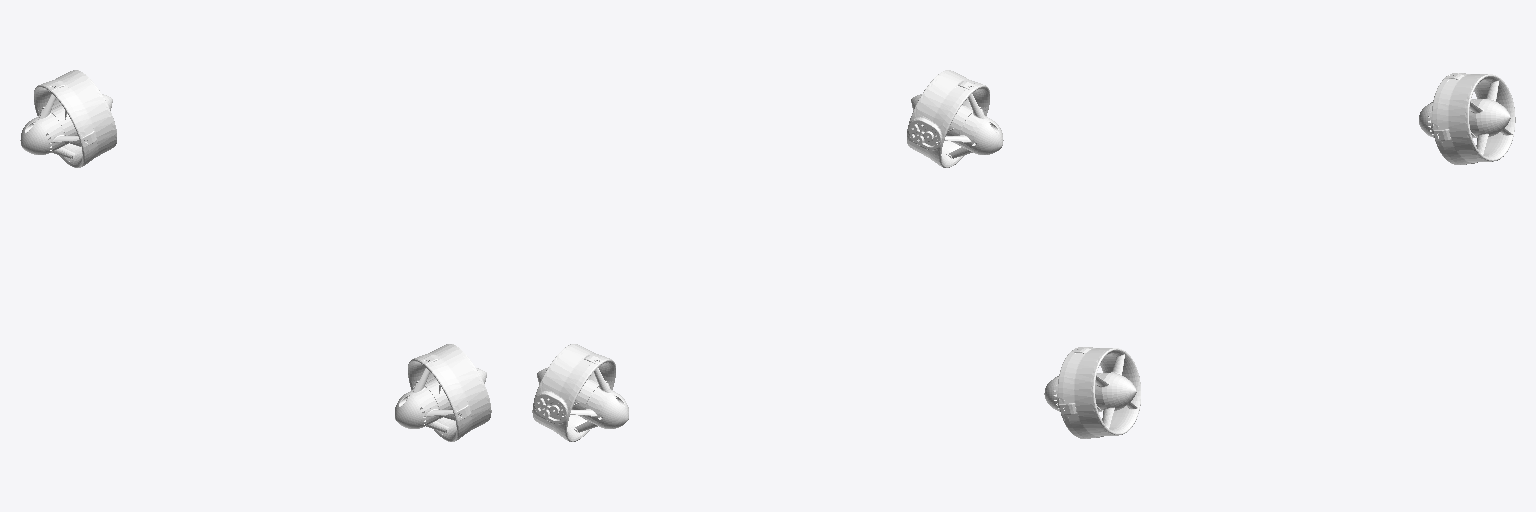
The robot description file, URDF, robot "athena":
<?xml version="1.0"?>
<!--  ==========================================================================================  -->
<!--  |    This document was autogenerated by scene_to_spawner from athena.xacro               |  -->
<!--  |    EDITING THIS FILE BY HAND IS NOT RECOMMENDED                                        |  -->
<!--  ==========================================================================================  -->
<robot xmlns:xacro="http://www.ros.org/wiki/xacro" name="athena">
  <link name="base_link">
    <visual>
      <origin rpy="0 0 0" xyz="0 0 0"/>
      <geometry>
        <mesh filename="meshes/simpleHull3/base_link.obj" scale="0.21 0.21 0.21"/>
      </geometry>
    </visual>
    </link>
  <link name="center_r_link">
    <visual>
      <origin rpy="0 0 0" xyz="0 0 0.0"/>
      <geometry>
        <mesh filename="meshes/simpleHull3/centerRight.obj" scale="0.21 0.21 0.21"/>
      </geometry>
    </visual>
    </link>
  <joint name="center_r_joint" type="revolute">
    <parent link="base_link"/>
    <child link="center_r_link"/>
    <origin rpy="0 0 0" xyz="0 0 0"/>
    <limit effort="50" lower="0" upper="0" velocity="5"/>
    <dynamics damping="1.0"/>
    <axis xyz="1 0 0"/>
  </joint>
  <link name="back_l_link">
    <visual>
      <origin rpy="0 0 0" xyz="0 0 0"/>
      <geometry>
        <mesh filename="meshes/simpleHull3/backLeft.obj" scale="0.21 0.21 0.21"/>
      </geometry>
    </visual>
    </link>
  <joint name="back_l_joint" type="revolute">
    <parent link="base_link"/>
    <child link="back_l_link"/>
    <origin rpy="0 0 0" xyz="-0.105 0.0819 0"/>
    <limit effort="50" lower="0" upper="0" velocity="5"/>
    <dynamics damping="1.0"/>
    <axis xyz="1 0 0"/>
  </joint>
  <link name="back_r_link">
    <visual>
      <origin rpy="0 0 0" xyz="0 0 0"/>
      <geometry>
        <mesh filename="meshes/simpleHull3/backRight.obj" scale="0.21 0.21 0.21"/>
      </geometry>
    </visual>
    </link>
  <joint name="back_r_joint" type="revolute">
    <parent link="base_link"/>
    <child link="back_r_link"/>
    <origin rpy="0 0 0" xyz="-0.105 -0.0819 0"/>
    <limit effort="50" lower="0" upper="0" velocity="5"/>
    <dynamics damping="1.0"/>
    <axis xyz="1 0 0"/>
  </joint>
  <link name="front_l_link">
    <visual>
      <origin rpy="0 0 0" xyz="0 0 0"/>
      <geometry>
        <mesh filename="meshes/simpleHull3/frontLeft.obj" scale="0.21 0.21 0.21"/>
      </geometry>
    </visual>
    </link>
  <joint name="front_l_joint" type="revolute">
    <parent link="base_link"/>
    <child link="front_l_link"/>
    <origin rpy="0 0 0" xyz="0.273 0.042 0"/>
    <limit effort="50" lower="0" upper="0" velocity="5"/>
    <dynamics damping="1.0"/>
    <axis xyz="1 0 0"/>
  </joint>
  <link name="front_r_link">
    <visual>
      <origin rpy="0 0 0" xyz="0 0 0"/>
      <geometry>
        <mesh filename="meshes/simpleHull3/frontRight.obj" scale="0.21 0.21 0.21"/>
      </geometry>
    </visual>
    </link>
  <joint name="front_r_joint" type="revolute">
    <parent link="base_link"/>
    <child link="front_r_link"/>
    <origin rpy="0 0 0" xyz="0.273 -0.042 0"/>
    <limit effort="50" lower="0" upper="0" velocity="5"/>
    <dynamics damping="1.0"/>
    <axis xyz="1 0 0"/>
  </joint>
  <joint name="hokuyo_joint" type="revolute">
    <axis xyz="0 1 0"/>
    <origin rpy="0 0 0" xyz="0.50 0 0.15"/>
    <parent link="base_link"/>
    <child link="hokuyo_link"/>
    <limit effort="100" lower="0" upper="0" velocity="5"/>
  </joint>
  <link name="hokuyo_link">
    <visual name="visual">
      <origin rpy="0 0 0" xyz="0 0 0"/>
      <geometry>
        <mesh filename="meshes/simpleHull3/box.obj" scale="0.1 0.1 0.1"/>
      </geometry>
    </visual>
    </link>
  <joint name="fwd_left_joint" type="revolute">
    <parent link="back_l_link"/>
    <child link="fwd_left"/>
    <origin rpy="0 -1.83079632679 0" xyz="-0.3 0 -0.1"/>
    <dynamics damping="1.0"/>
    <axis xyz="1 0 0"/>
    <limit effort="50" lower="0" upper="0" velocity="5"/>
  </joint>
  <link name="fwd_left">
    <visual name="fwd_left">
      <origin rpy="0 0 0" xyz="-0.0315 0 0.0"/>
      <geometry>
        <mesh filename="meshes/simpleHull3/thruster.obj" scale="0.21 0.21 0.21"/>
      </geometry>
      <material name="black">
        <color rgba="255 255 255 1"/>
      </material>
    </visual>
    </link>
  <joint name="fwd_right_joint" type="revolute">
    <parent link="back_r_link"/>
    <child link="fwd_right"/>
    <origin rpy="0 -1.83079632679 0" xyz="-0.3 0 -0.1"/>
    <dynamics damping="1.0"/>
    <axis xyz="1 0 0"/>
    <limit effort="50" lower="0" upper="0" velocity="5"/>
  </joint>
  <link name="fwd_right">
    <visual name="fwd_right">
      <origin rpy="0 0 0" xyz="-0.0315 0 0.0"/>
      <geometry>
        <mesh filename="meshes/simpleHull3/thruster.obj" scale="0.21 0.21 0.21"/>
      </geometry>
      <material name="black">
        <color rgba="255 255 255 1"/>
      </material>
    </visual>
    </link>
  </robot>

--- Facts derived from the render (not from the file) ---
Views: 3 orthographic renders of the robot side by side, from view 1: azimuth 30°, elevation 25°; view 2: azimuth 150°, elevation 25°; view 3: azimuth 330°, elevation 25°.
Model athena with 9 links and 8 joints (8 revolute), rooted at base_link, posed every joint at zero.
Visible links, largest first — view 1: fwd_right, fwd_left; view 2: fwd_left, fwd_right; view 3: fwd_left, fwd_right.
Boxes of the visible links, left/top/right/bottom form: fwd_right: left=395, top=344, right=491, bottom=441; fwd_left: left=20, top=70, right=116, bottom=167; fwd_left: left=532, top=344, right=628, bottom=441; fwd_right: left=907, top=70, right=1003, bottom=167; fwd_left: left=1419, top=73, right=1515, bottom=164; fwd_right: left=1044, top=347, right=1140, bottom=438.
Bounding box of the posed robot: 0.0229 × 0.1842 × 0.0213 m (x, y, z).
2 mesh visuals loaded from 8 distinct referenced files (1 OBJ); not drawn: 7 (reference not matched to a file when rendering).